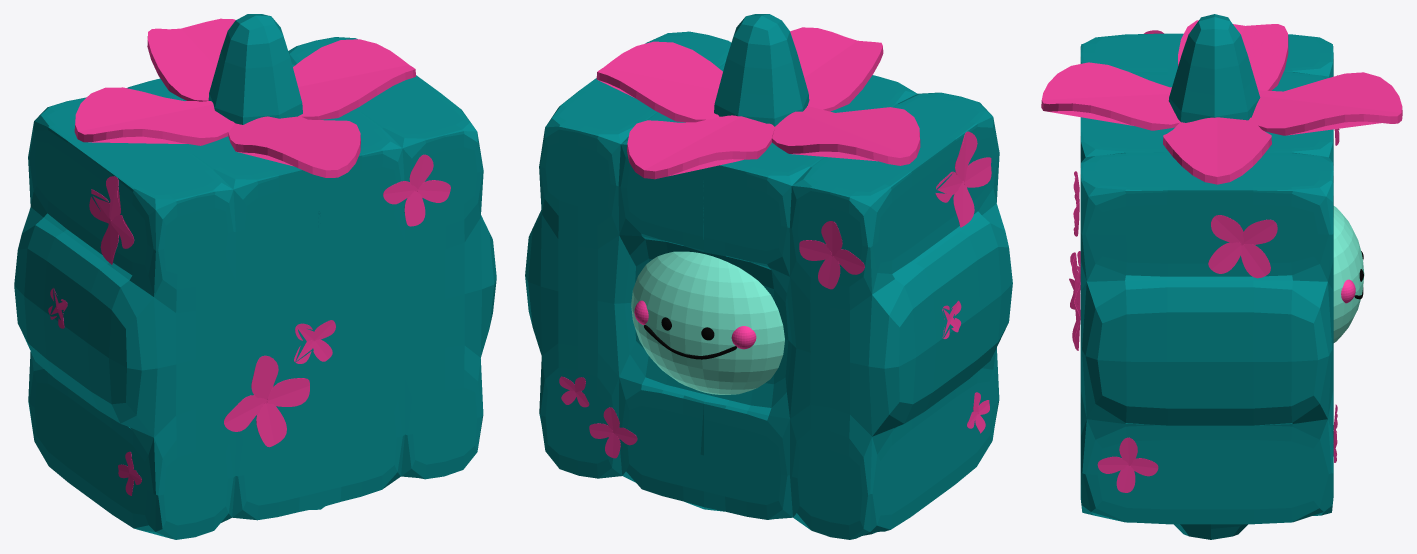
Rendered from aldeano_COLORES_BASE.fbx.
The picture shows the model from 3 angles, left to right: view 1: azimuth 30°, elevation 25°; view 2: azimuth 150°, elevation 25°; view 3: azimuth 270°, elevation 25°; orthographic projection. The views are drawn at different scales.
Visible parts, largest first — view 1: cuerpo, florG, pistilo, florG.007, florG.009, florG.004, florG.008; view 2: cuerpo, florG, Sphere, pistilo, florG.004, florG.001, florG.003, florG.002; view 3: cuerpo, florG, pistilo, florG.010, Sphere, florG.011, florG.007.
Boxes of the visible parts, x1=… form: cuerpo: x1=14, y1=37, x2=496, y2=539; florG: x1=74, y1=18, x2=415, y2=177; pistilo: x1=208, y1=14, x2=302, y2=124; florG.007: x1=224, y1=355, x2=309, y2=447; florG.009: x1=383, y1=154, x2=450, y2=226; florG.004: x1=89, y1=176, x2=134, y2=264; florG.008: x1=294, y1=320, x2=335, y2=363; cuerpo: x1=525, y1=31, x2=1012, y2=539; florG: x1=596, y1=27, x2=920, y2=179; Sphere: x1=631, y1=251, x2=784, y2=394; pistilo: x1=714, y1=14, x2=809, y2=126; florG.004: x1=935, y1=131, x2=991, y2=227; florG.001: x1=799, y1=221, x2=864, y2=289; florG.003: x1=589, y1=407, x2=637, y2=458; florG.002: x1=559, y1=376, x2=589, y2=407; cuerpo: x1=1080, y1=33, x2=1333, y2=539; florG: x1=1041, y1=20, x2=1402, y2=184; pistilo: x1=1168, y1=14, x2=1260, y2=122; florG.010: x1=1208, y1=215, x2=1277, y2=278; Sphere: x1=1333, y1=206, x2=1364, y2=342; florG.011: x1=1097, y1=437, x2=1158, y2=492; florG.007: x1=1069, y1=252, x2=1080, y2=350.
Size of the model in its own units: 231 by 283 by 195.
